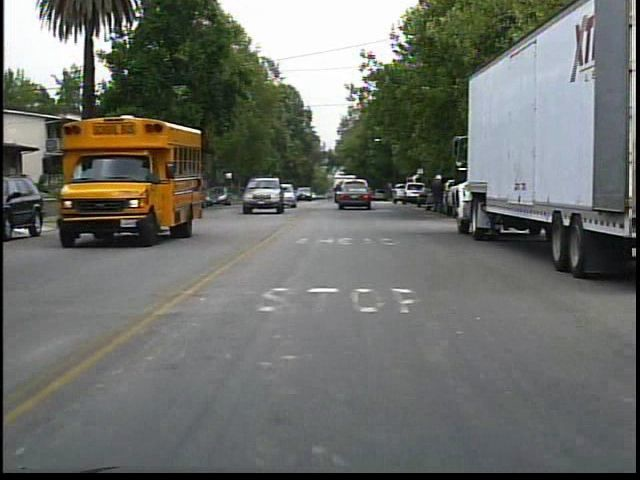person: (425, 171, 448, 219)
